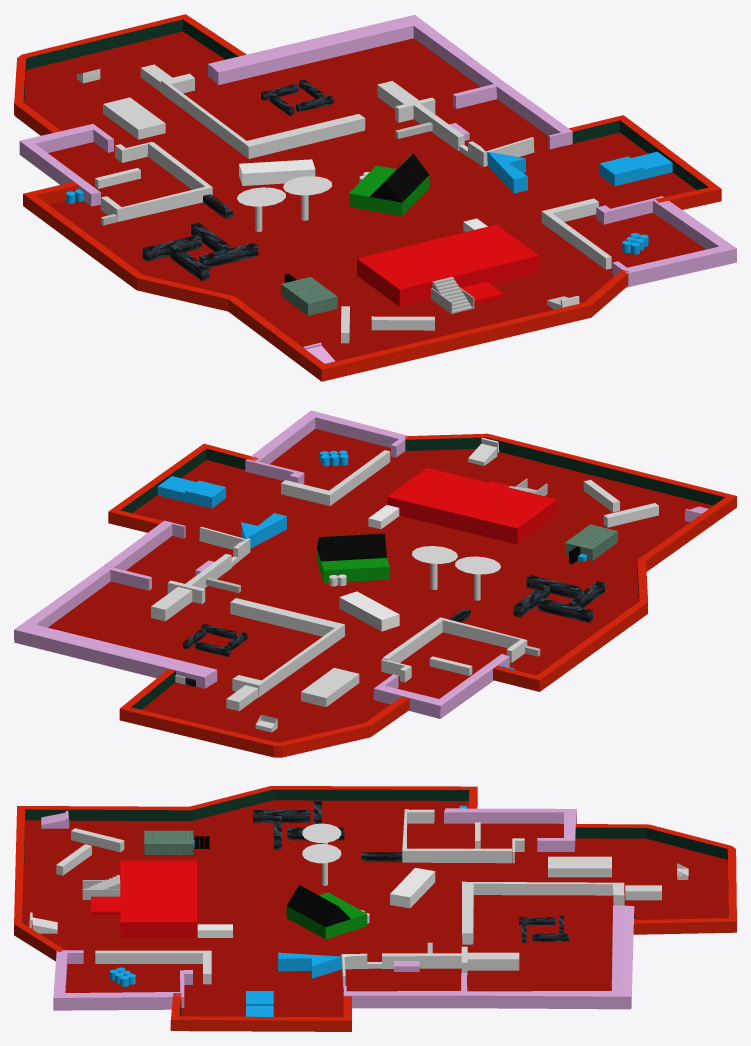
File: Level.fbx
3 renders of one model, top to bottom at view 1: azimuth 30°, elevation 25°; view 2: azimuth 150°, elevation 25°; view 3: azimuth 270°, elevation 25°, orthographic. The views are drawn at different scales.
Visible parts, largest first — view 1: PolyShape, Cube__9_, PolyShape__1_, PolyShape__8_, PolyShape__2_, Cube__21_, PolyShape__4_, PolyShape__5_, PolyShape__3_, Cube__22_, PolyShape__7_, Cube__37_ (+13 smaller); view 2: PolyShape, Cube__9_, PolyShape__1_, PolyShape__8_, PolyShape__2_, Cube__21_, PolyShape__4_, PolyShape__5_, PolyShape__3_, Cube__22_, PolyShape__7_, Cube__30_ (+13 smaller); view 3: PolyShape, Cube__9_, PolyShape__1_, PolyShape__8_, PolyShape__2_, PolyShape__4_, Cube__21_, PolyShape__5_, PolyShape__7_, PolyShape__3_, Cube__22_, Cube__30_ (+14 smaller).
Boxes of the visible parts, bbox=[...] form: PolyShape: bbox=[14, 14, 721, 381]; Cube__9_: bbox=[357, 224, 538, 306]; PolyShape__1_: bbox=[207, 14, 506, 108]; PolyShape__8_: bbox=[596, 196, 736, 287]; PolyShape__2_: bbox=[161, 73, 365, 158]; Cube__21_: bbox=[349, 153, 429, 216]; PolyShape__4_: bbox=[19, 124, 113, 206]; PolyShape__5_: bbox=[100, 142, 212, 221]; PolyShape__3_: bbox=[395, 97, 534, 166]; Cube__22_: bbox=[541, 198, 611, 269]; PolyShape__7_: bbox=[496, 84, 572, 149]; Cube__37_: bbox=[239, 159, 315, 185]; PolyShape: bbox=[48, 428, 736, 757]; Cube__9_: bbox=[387, 467, 557, 544]; PolyShape__1_: bbox=[14, 565, 217, 688]; PolyShape__8_: bbox=[245, 410, 409, 484]; PolyShape__2_: bbox=[230, 598, 344, 697]; Cube__21_: bbox=[316, 533, 389, 583]; PolyShape__4_: bbox=[373, 654, 509, 718]; PolyShape__5_: bbox=[382, 617, 527, 663]; PolyShape__3_: bbox=[167, 526, 250, 603]; Cube__22_: bbox=[281, 450, 390, 505]; PolyShape__7_: bbox=[104, 520, 185, 570]; Cube__30_: bbox=[301, 667, 359, 707]; PolyShape: bbox=[14, 786, 736, 1031]; Cube__9_: bbox=[120, 860, 196, 937]; PolyShape__1_: bbox=[461, 905, 634, 1009]; PolyShape__8_: bbox=[53, 950, 192, 1010]; PolyShape__2_: bbox=[462, 881, 624, 944]; PolyShape__4_: bbox=[444, 808, 576, 851]; Cube__21_: bbox=[286, 884, 367, 939]; PolyShape__5_: bbox=[402, 809, 511, 863]; PolyShape__7_: bbox=[343, 985, 461, 1008]; PolyShape__3_: bbox=[341, 946, 467, 989]; Cube__22_: bbox=[95, 950, 211, 984]; Cube__30_: bbox=[548, 856, 611, 877].
Size of the model in its own units: 3347 by 425 by 4355.
